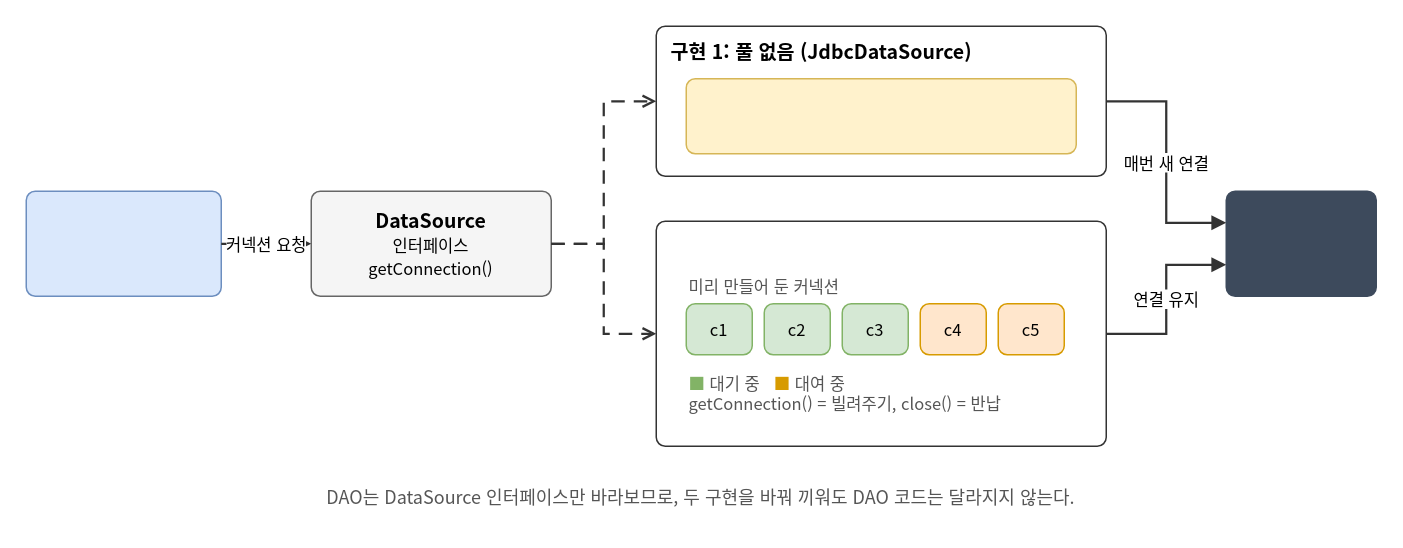
This 1403x548 diagram has some shape labels left out. The shapes that lost their labels are listed below. From the top down, each one's box as (x1, y1, x2, y2) in pixels, then its label:
(685, 77, 1076, 154): getConnection()마다 DB 연결을 새로 맺는다 close() = 실제 연결 종료
(25, 190, 221, 296): DAO CardDao · DeckDao
(1225, 190, 1376, 296): DB
(655, 220, 1106, 446): 구현 2: 커넥션 풀 (HikariDataSource)
